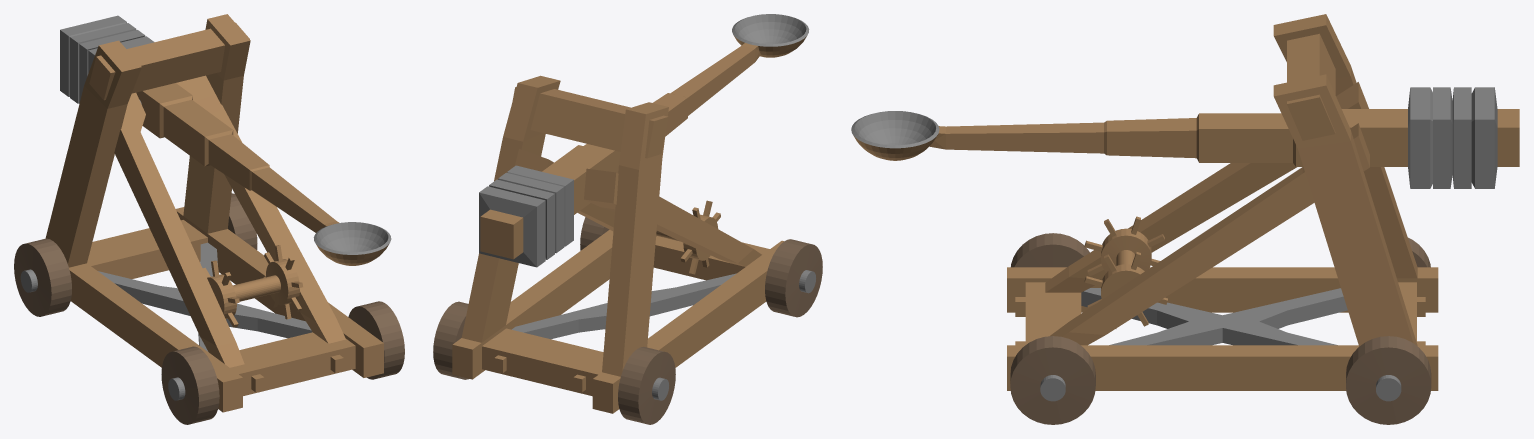
Rendered from catapult.fbx.
3 views of the same model, side by side, from view 1: azimuth 30°, elevation 25°; view 2: azimuth 150°, elevation 25°; view 3: azimuth 270°, elevation 25° (orthographic). The views are drawn at different scales.
Parts seen in each view (by area): view 1: Catapult frame, Catapult arm, Wheels back, Wheels front, Rope; view 2: Catapult frame, Catapult arm, Wheels front, Wheels back, Rope; view 3: Catapult frame, Catapult arm, Wheels back, Wheels front, Rope.
Boxes of the visible parts, bbox=[...] form: Catapult frame: bbox=[45, 14, 383, 412]; Catapult arm: bbox=[60, 15, 391, 265]; Wheels back: bbox=[161, 301, 404, 424]; Wheels front: bbox=[14, 193, 257, 316]; Rope: bbox=[202, 245, 302, 327]; Catapult frame: bbox=[452, 75, 783, 413]; Catapult arm: bbox=[479, 14, 809, 267]; Wheels front: bbox=[433, 301, 675, 424]; Wheels back: bbox=[580, 217, 822, 317]; Rope: bbox=[656, 200, 720, 274]; Catapult frame: bbox=[1007, 14, 1438, 390]; Catapult arm: bbox=[851, 87, 1519, 188]; Wheels back: bbox=[1010, 233, 1095, 424]; Wheels front: bbox=[1346, 237, 1431, 424]; Rope: bbox=[1084, 216, 1167, 328].
Size of the model in its own units: 7.64 by 9.32 by 17.77.
